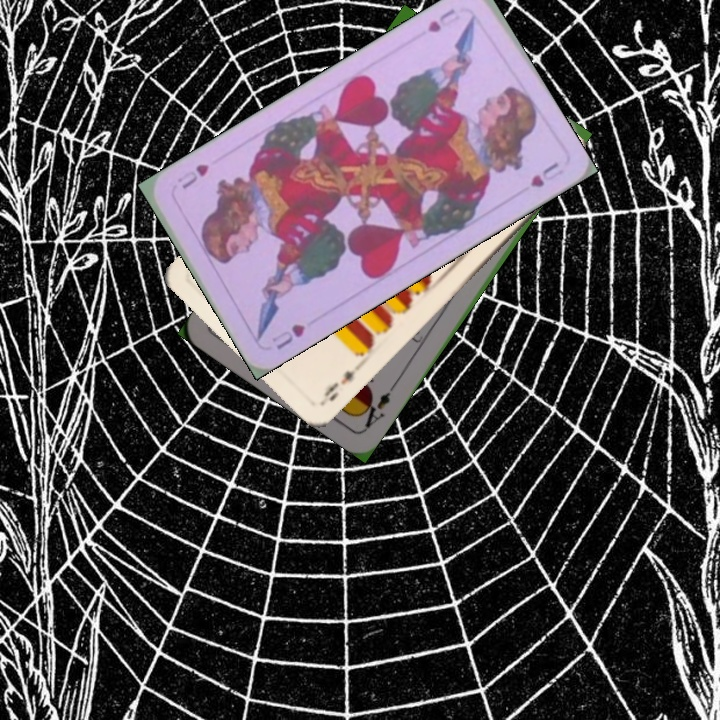E9: (319, 359, 362, 404)
EA: (354, 388, 393, 433)
HU: (267, 319, 308, 353), (423, 4, 463, 36)
